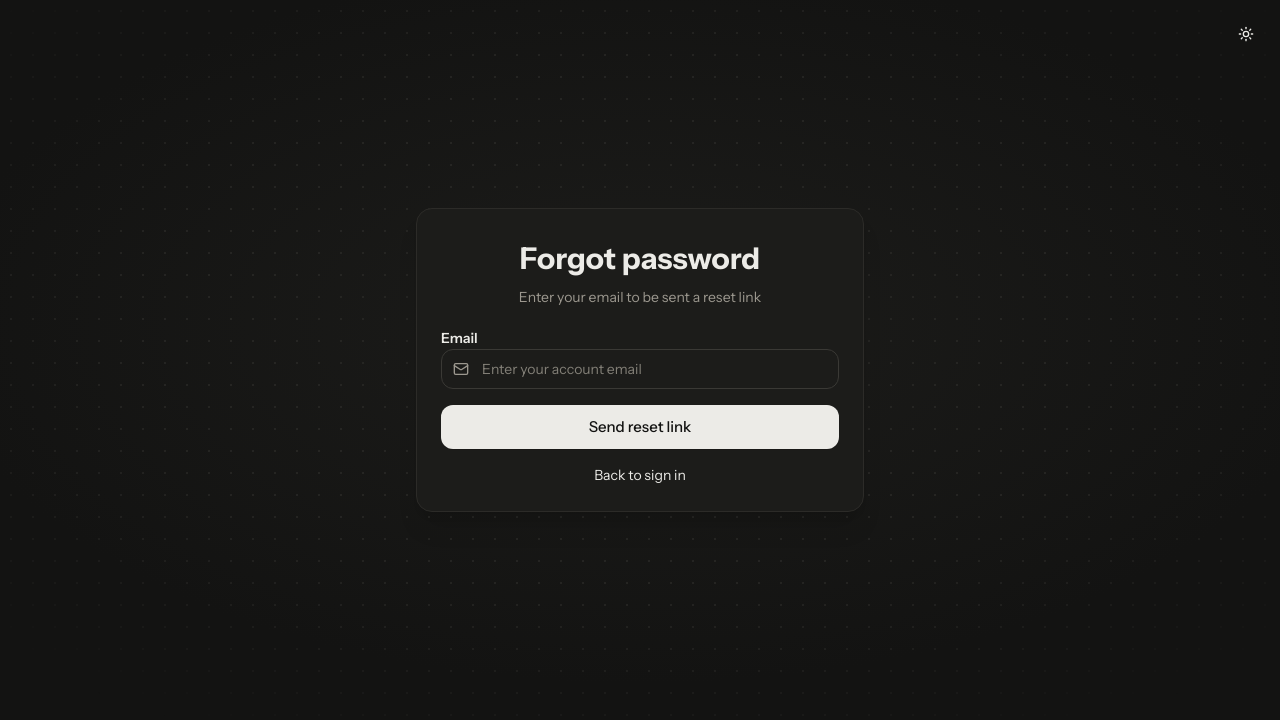
it: ForgotPasswordPage › reports a rate limit rather than claiming success
Type "owner@example.com" into the field labelled "Email".
click(640, 369); type("owner@example.com")  # box [441, 349, 839, 389]
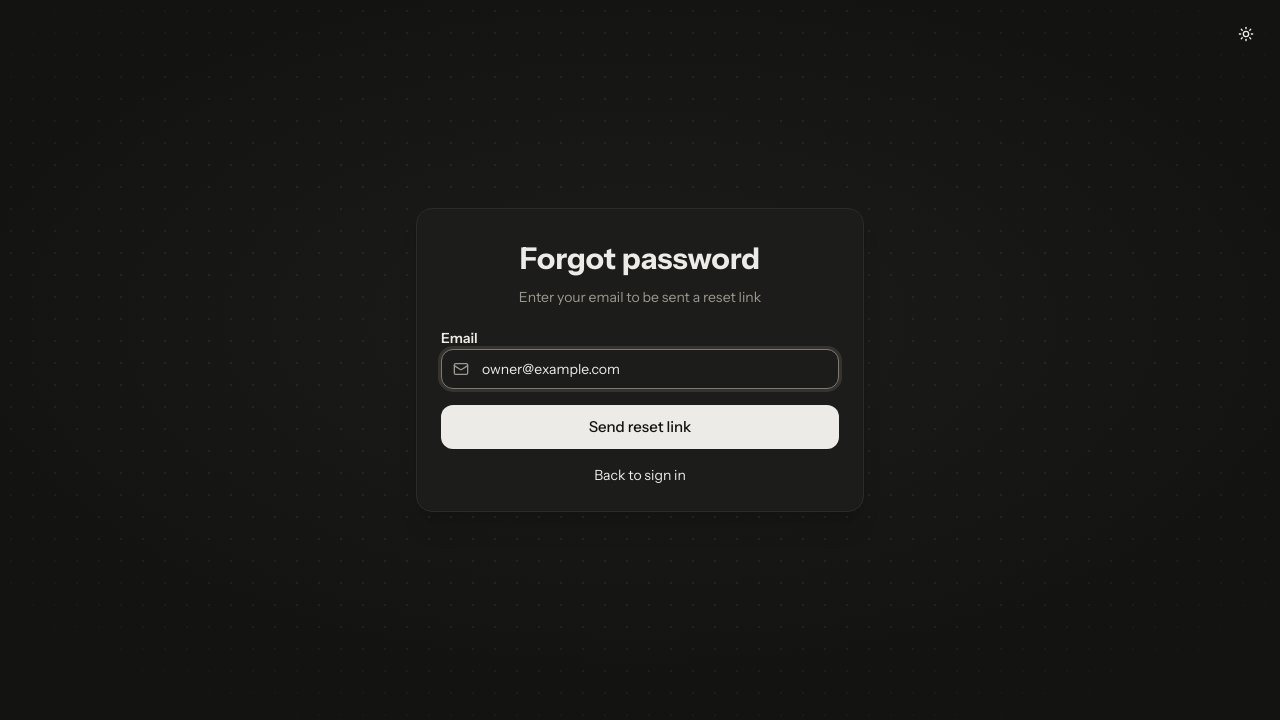
Click the button "Send reset link".
click(640, 427)  # box [441, 405, 839, 449]
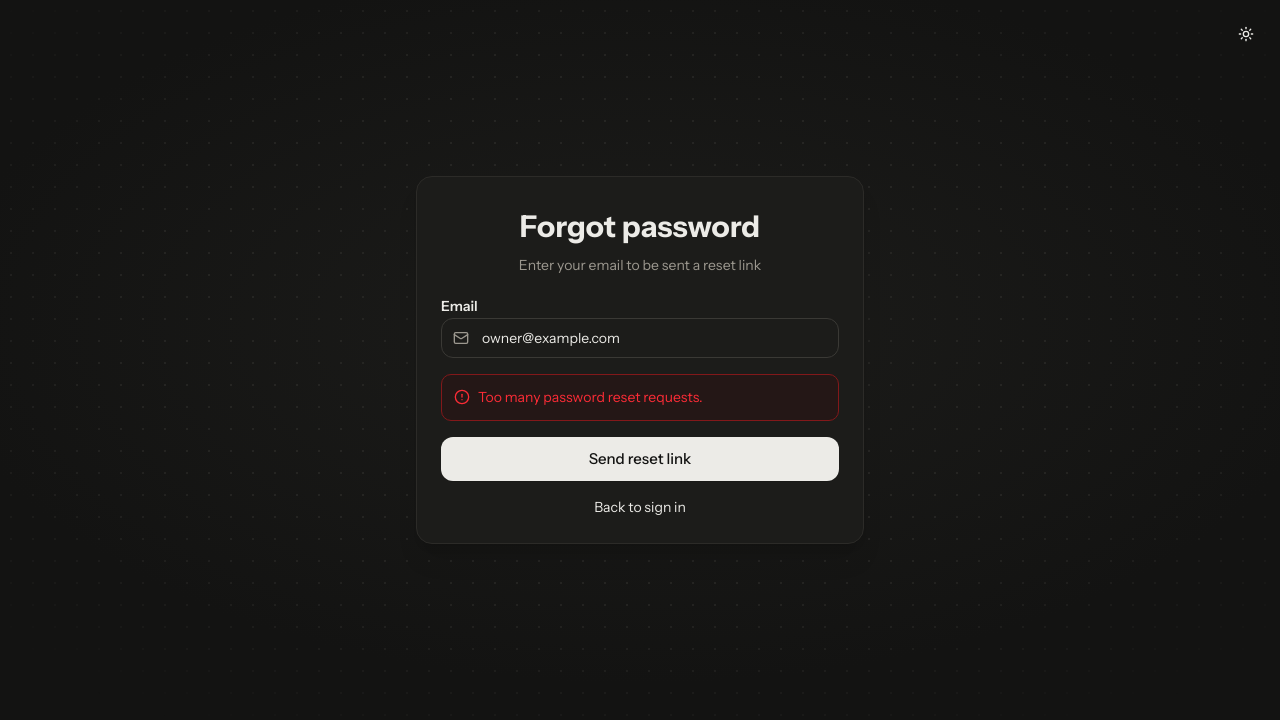
expect the text "Too many password reset requests." is shown: met, box [478, 386, 702, 408]
